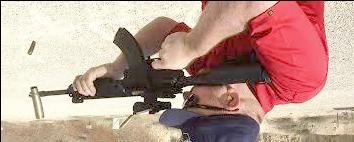gun: (40, 26, 266, 114)
